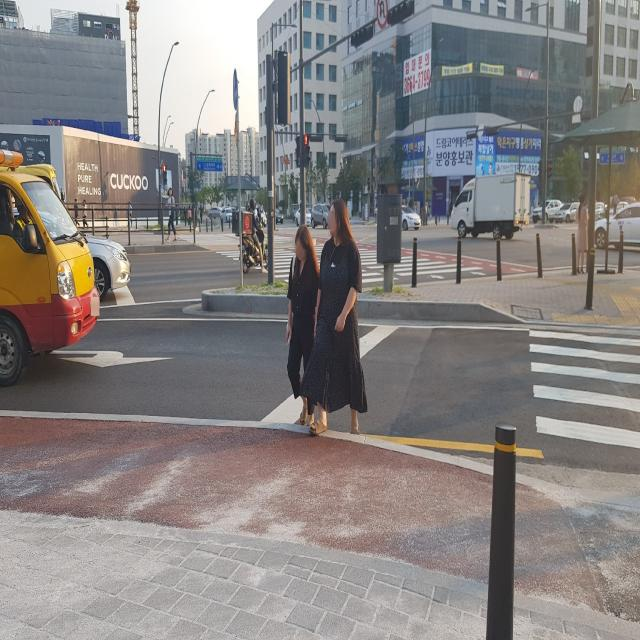빨간불: (302, 134, 310, 165), (161, 165, 168, 184)
횡단보도: (527, 327, 640, 451), (219, 238, 505, 281)
